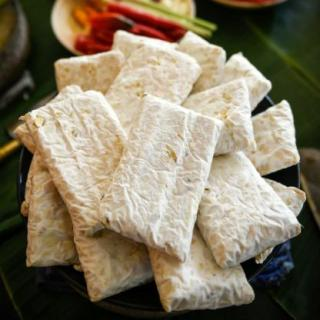Tempe: (98, 92, 226, 264)
